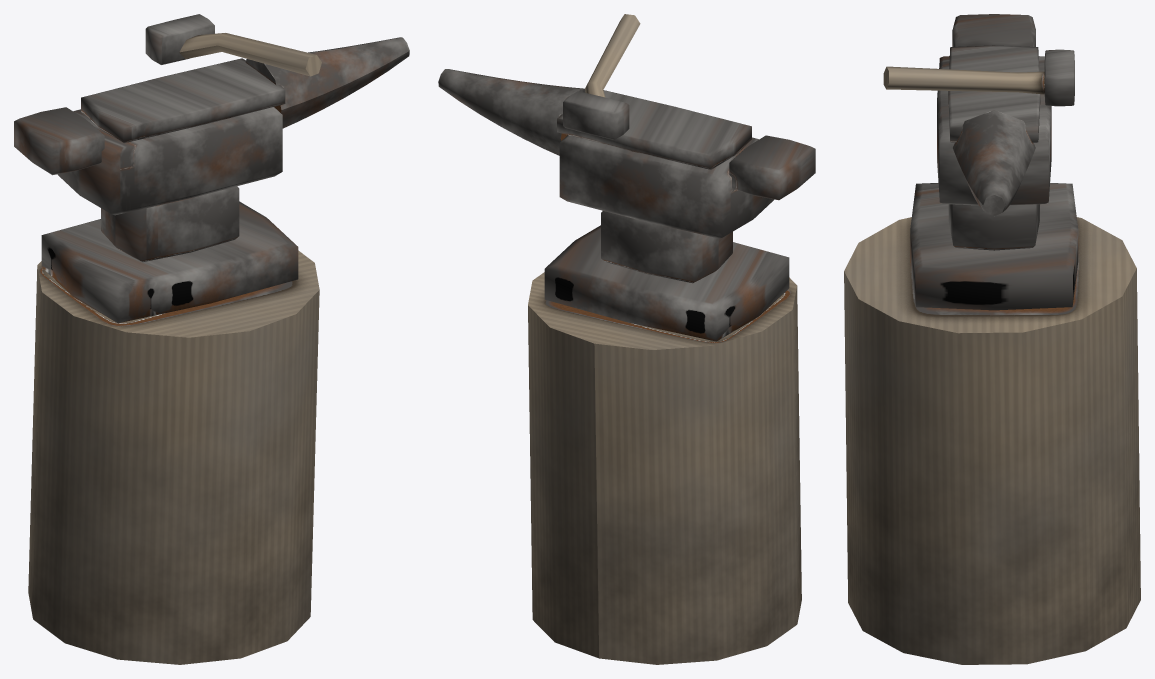
The model's file is SM_Camp_Anvil.fbx.
The picture shows the model from 3 angles, left to right: view 1: azimuth 30°, elevation 25°; view 2: azimuth 150°, elevation 25°; view 3: azimuth 270°, elevation 25°; orthographic projection. The views are drawn at different scales.
Visible parts, largest first — view 1: SM_Camp_Anvil; view 2: SM_Camp_Anvil; view 3: SM_Camp_Anvil.
Part boxes in pixels (<box>): SM_Camp_Anvil: <box>14,14,409,664</box>; SM_Camp_Anvil: <box>438,14,815,664</box>; SM_Camp_Anvil: <box>844,14,1140,664</box>.
Size of the model in its own units: 57.68 by 38.53 by 83.25.
